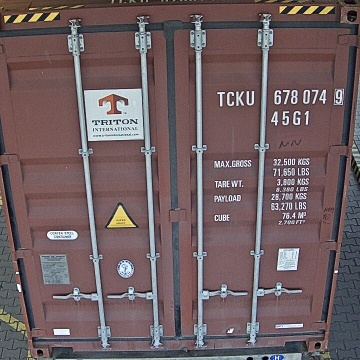serial_id: (217, 89, 343, 106)
